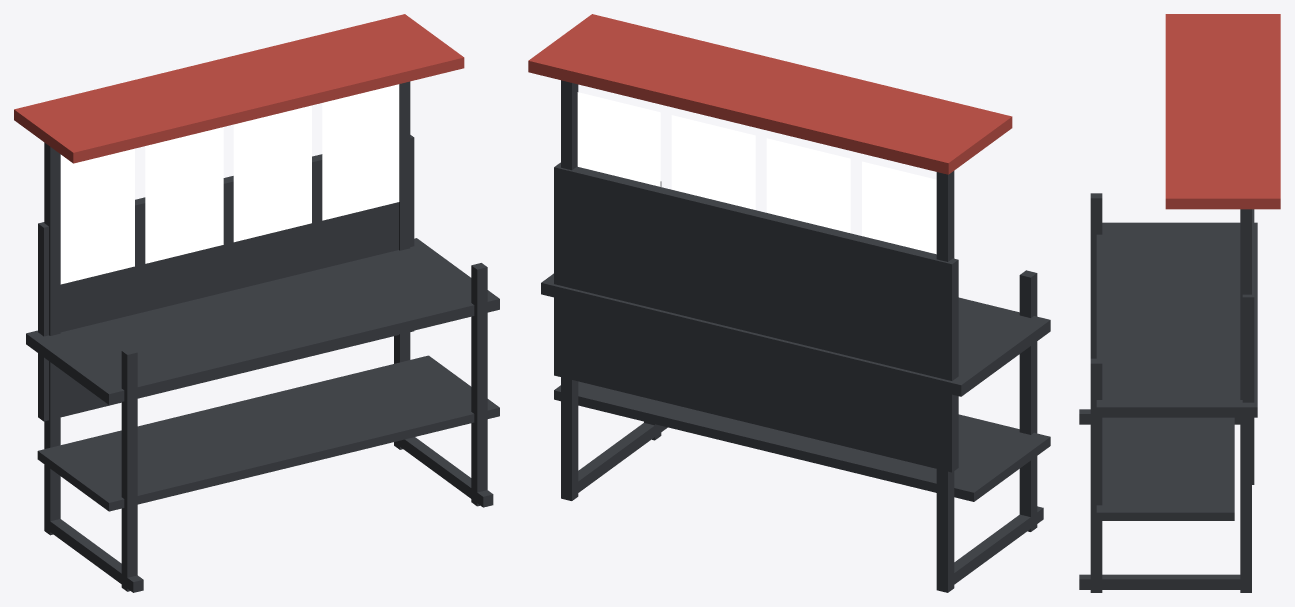
File: prop_street_newsstand.glb
3 renders of one model, left to right at view 1: azimuth 30°, elevation 25°; view 2: azimuth 150°, elevation 25°; view 3: azimuth 270°, elevation 25°, orthographic. The views are drawn at different scales.
Parts seen in each view (by area): view 1: newsstand_frame, newsstand_covers; view 2: newsstand_frame, newsstand_covers; view 3: newsstand_frame.
Boxes of the visible parts, x1,y1,x2,y2 form: newsstand_frame: [14, 14, 499, 592]; newsstand_covers: [60, 84, 399, 284]; newsstand_frame: [528, 14, 1050, 592]; newsstand_covers: [577, 92, 936, 254]; newsstand_frame: [1079, 14, 1280, 592].
Bounding box in the file's own units: 1.9 × 1.92 × 0.875.
